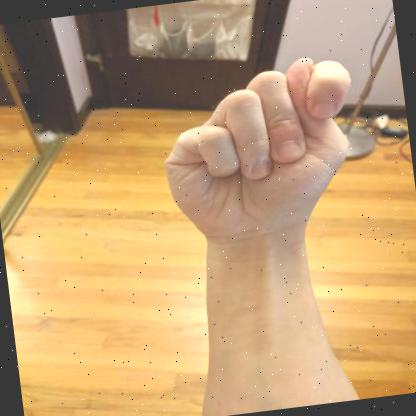T: (164, 57, 351, 249)
